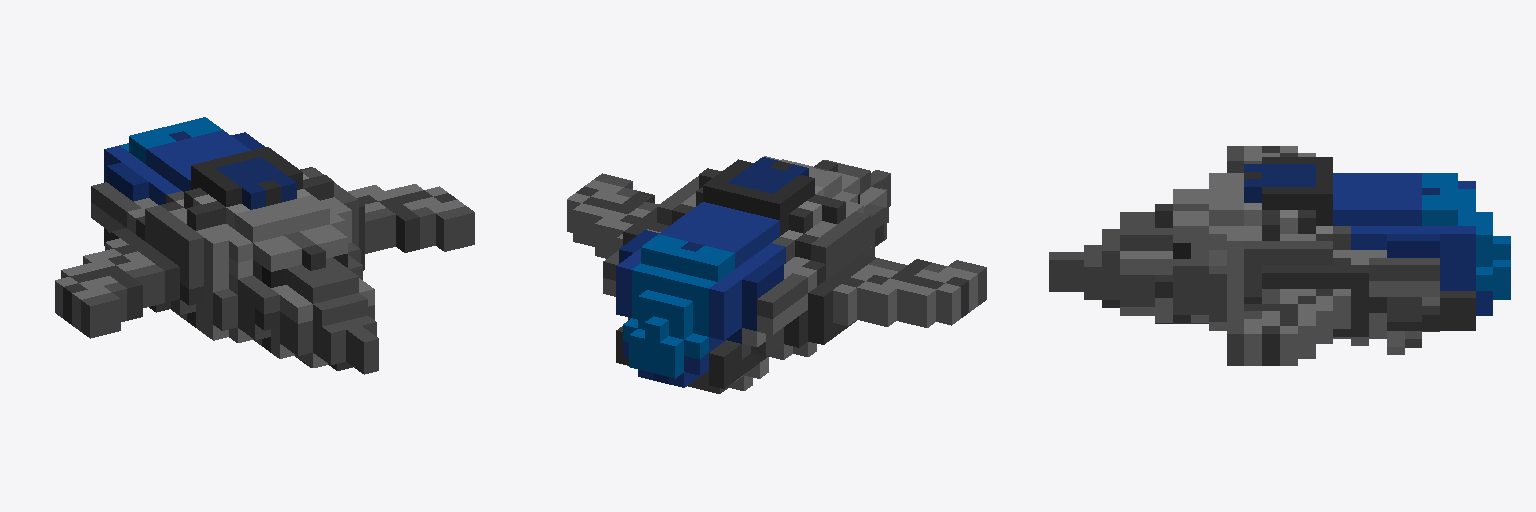
3 renders of one model, left to right at view 1: azimuth 30°, elevation 25°; view 2: azimuth 150°, elevation 25°; view 3: azimuth 270°, elevation 25°, orthographic.
Visible parts, largest first — view 1: nave-1; view 2: nave-1; view 3: nave-1.
Boxes of the visible parts, x1=… form: nave-1: x1=55, y1=117, x2=474, y2=374; nave-1: x1=567, y1=156, x2=986, y2=393; nave-1: x1=1049, y1=146, x2=1510, y2=365.
Bounding box in the file's own units: 2.5 × 1 × 2.6.
Materials: 1 (1 with a texture image).